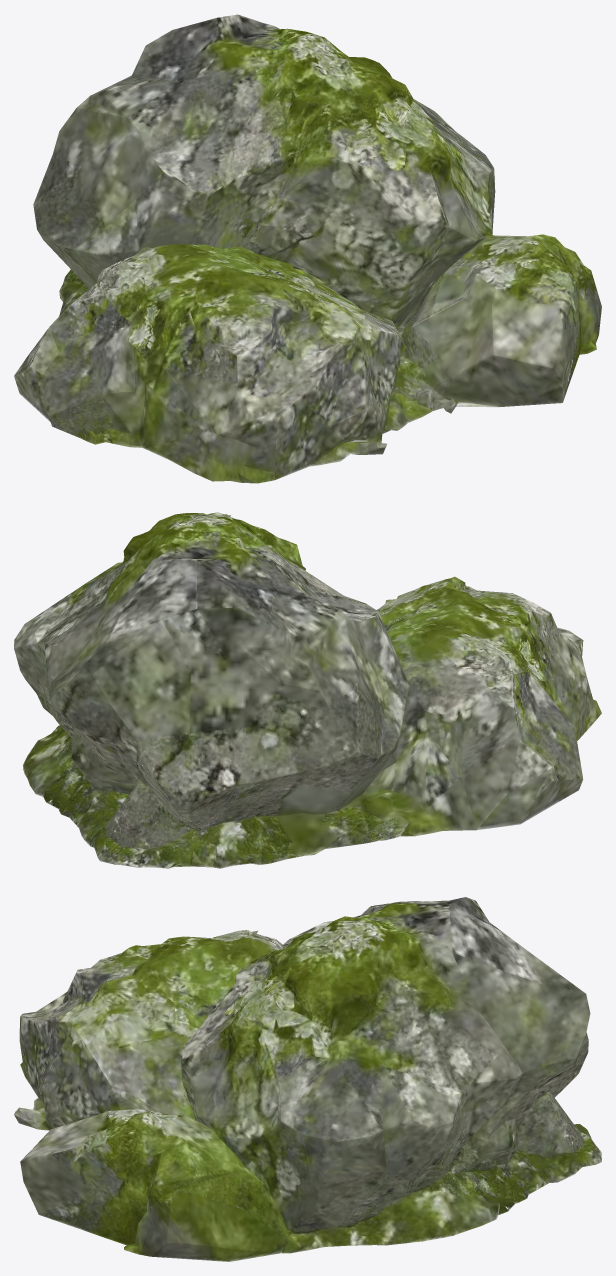
The model's file is rocks.glb.
The picture shows the model from 3 angles, top to bottom: view 1: azimuth 30°, elevation 25°; view 2: azimuth 150°, elevation 25°; view 3: azimuth 270°, elevation 25°; orthographic projection. The views are drawn at different scales.
Parts seen in each view (by area): view 1: Mesh_0; view 2: Mesh_0; view 3: Mesh_0.
Boxes of the visible parts, bbox=[...] form: Mesh_0: bbox=[14, 14, 601, 483]; Mesh_0: bbox=[14, 512, 601, 868]; Mesh_0: bbox=[14, 897, 601, 1261].
Bounding box in the file's own units: 1.86 × 0.8939 × 1.89.
Materials: 1 (1 with a texture image).
